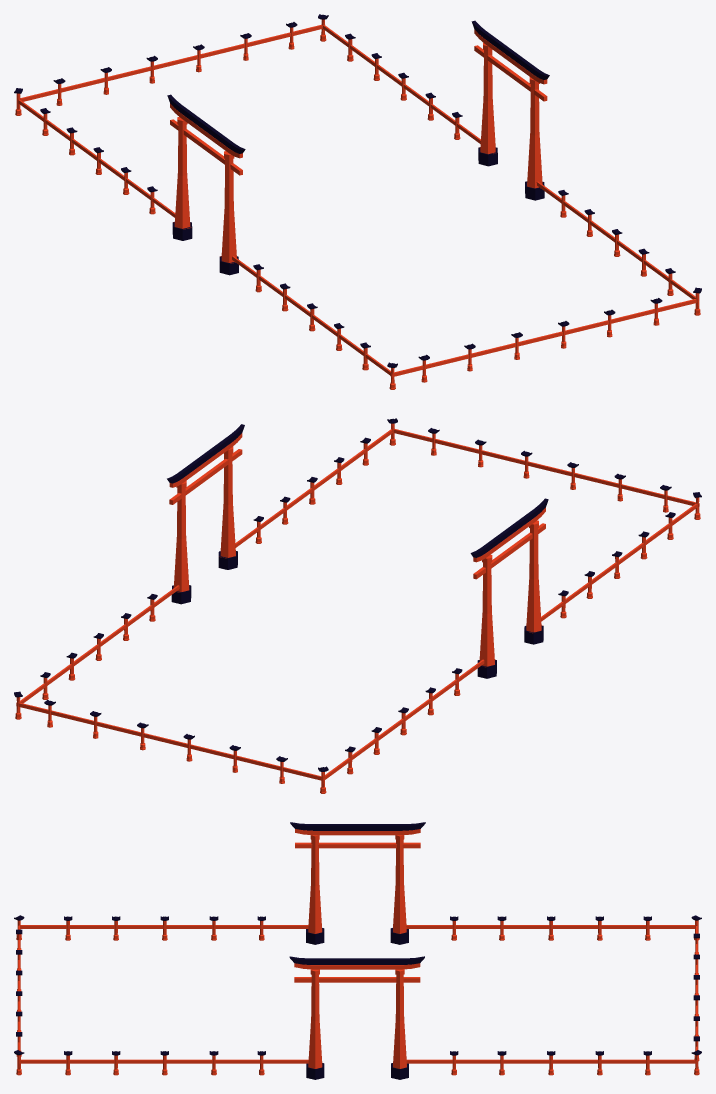
File: Barrier.fbx
The picture shows the model from 3 angles, top to bottom: view 1: azimuth 30°, elevation 25°; view 2: azimuth 150°, elevation 25°; view 3: azimuth 270°, elevation 25°; orthographic projection. The views are drawn at different scales.
Visible parts, largest first — view 1: Cylinder.002; view 2: Cylinder.002; view 3: Cylinder.002.
Part boxes in pixels (bbox=[...]): Cylinder.002: bbox=[14, 14, 701, 389]; Cylinder.002: bbox=[14, 418, 701, 793]; Cylinder.002: bbox=[14, 822, 701, 1079].
Size of the model in its own units: 4833 by 1860 by 9801.
